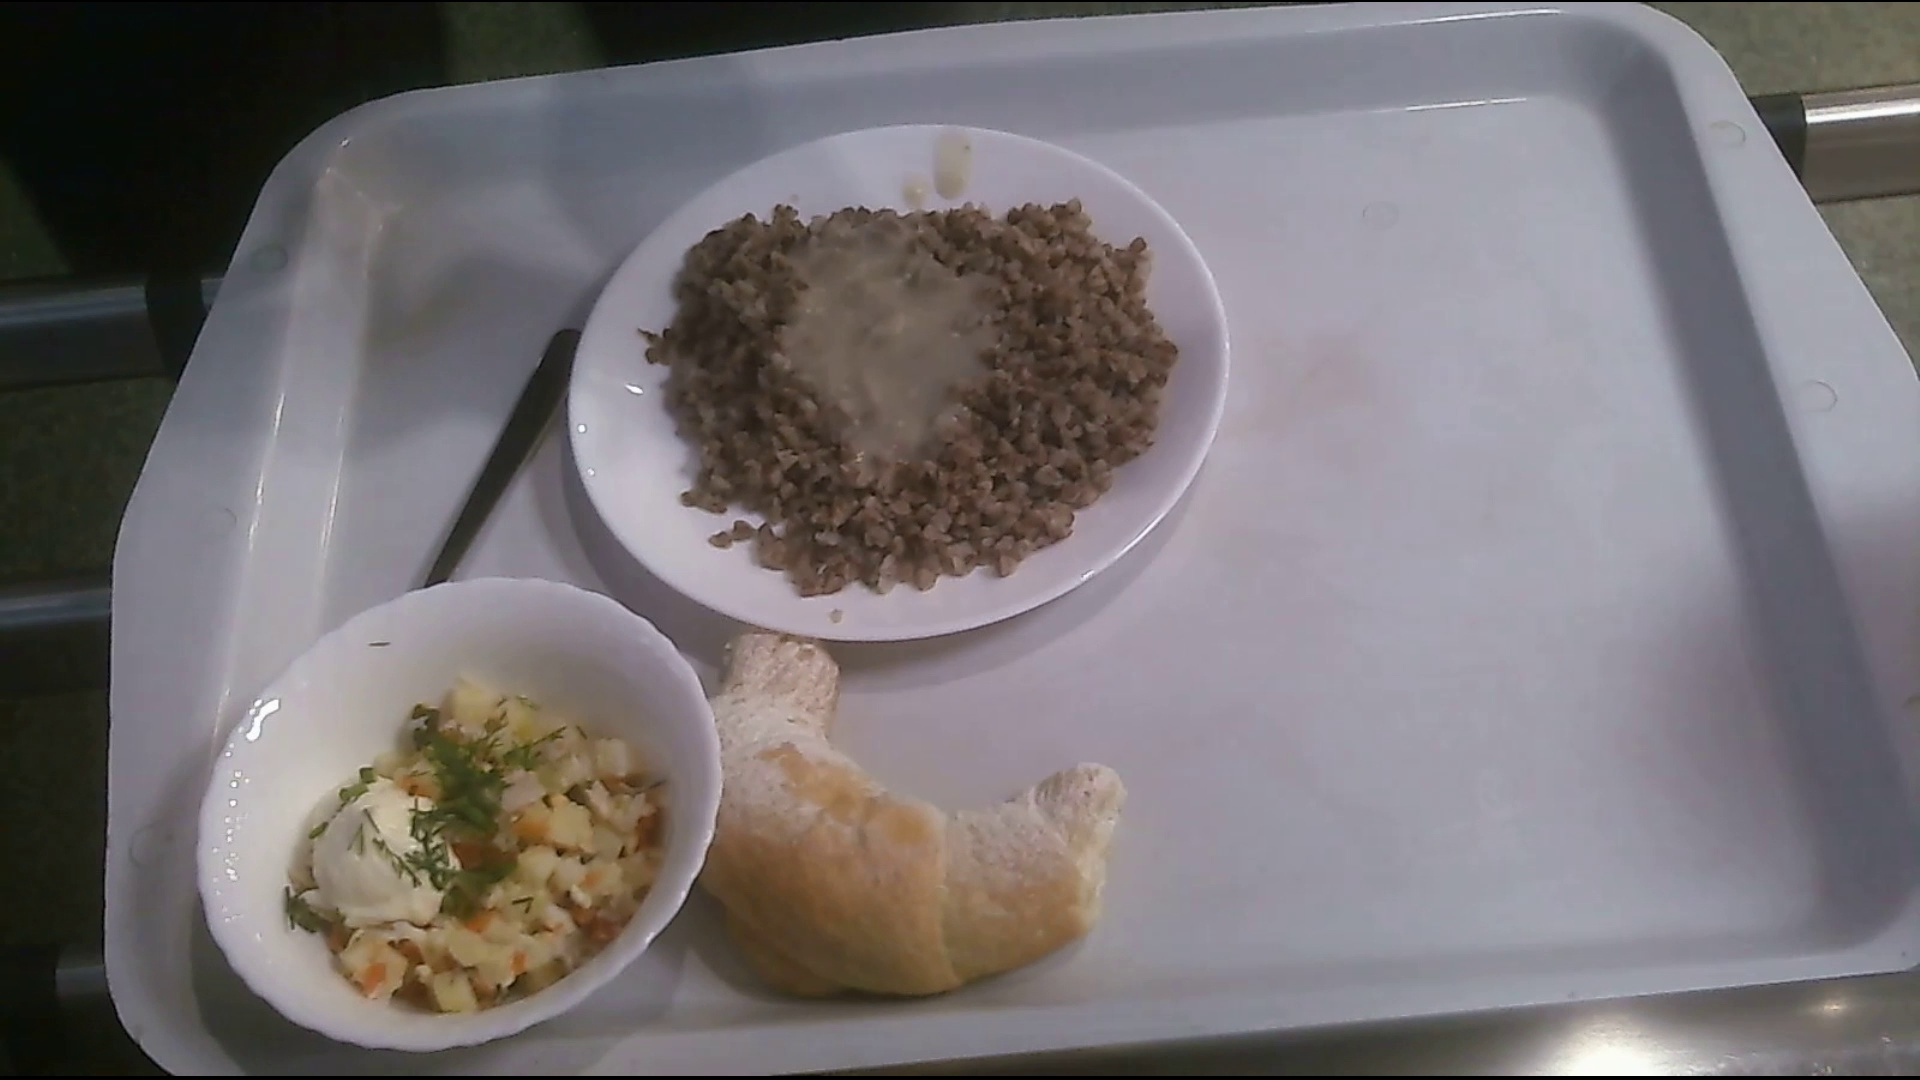bowl: (204, 582, 713, 1044)
other: (690, 636, 1120, 1000)
plate: (574, 127, 1232, 646)
